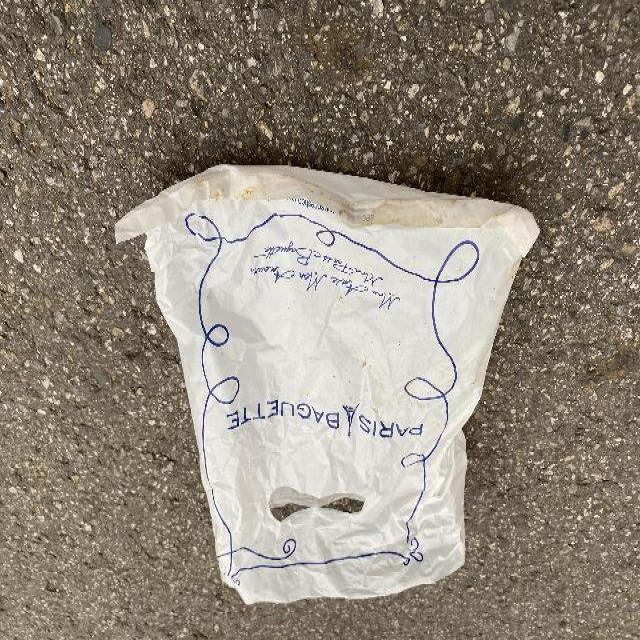plastic bag: (108, 160, 544, 610)
